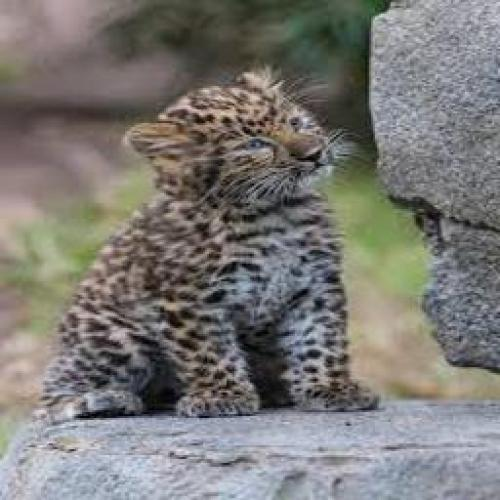amur_leopard-endangered: (41, 67, 380, 419)
